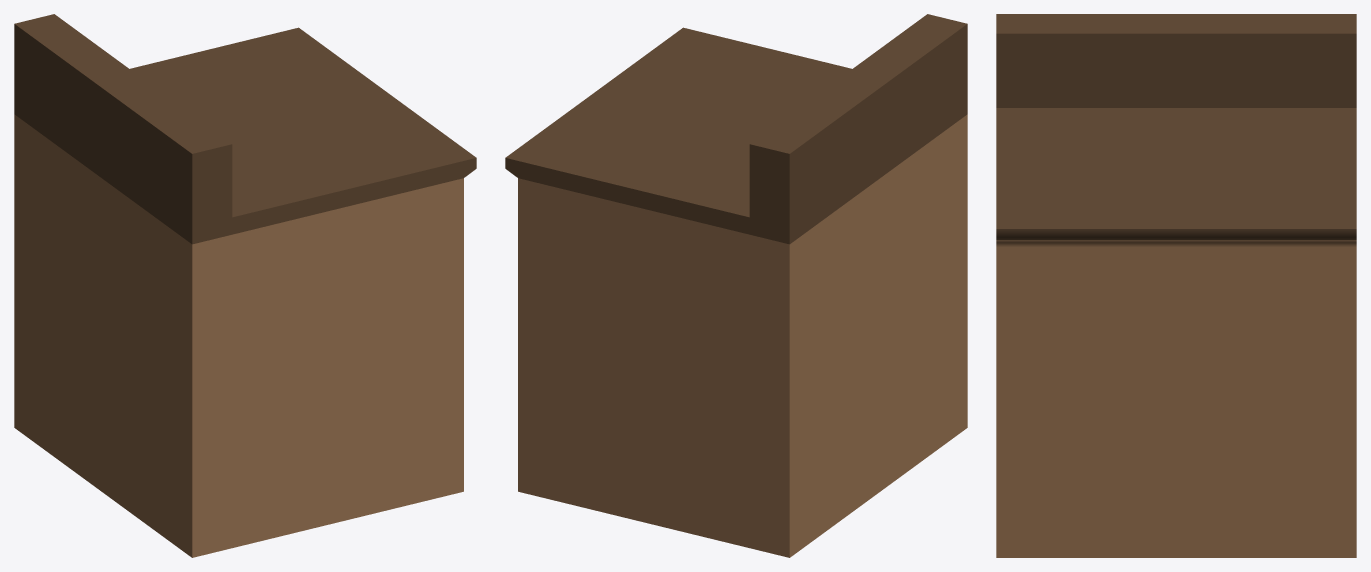
Rendered from Kitchen Countertops.fbx.
3 renders of one model, left to right at view 1: azimuth 30°, elevation 25°; view 2: azimuth 150°, elevation 25°; view 3: azimuth 270°, elevation 25°, orthographic.
Parts seen in each view (by area): view 1: pCube1; view 2: pCube1; view 3: pCube1.
Boxes of the visible parts, bbox=[...] form: pCube1: bbox=[14, 14, 476, 557]; pCube1: bbox=[505, 14, 967, 557]; pCube1: bbox=[996, 14, 1356, 557].
Bounding box in the file's own units: 101 × 143 × 110.
